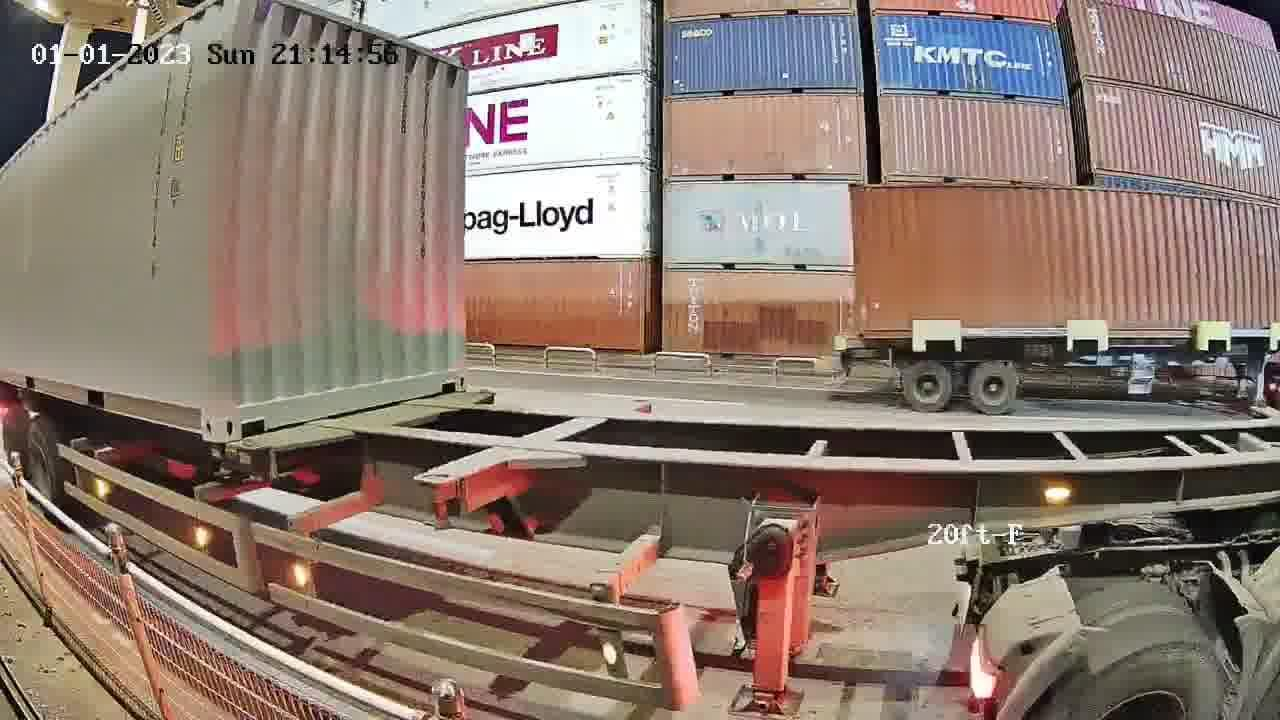Cone: (208, 448, 231, 479)
Hole_L: (222, 388, 279, 443)
Hole_R: (182, 394, 222, 446), (431, 353, 466, 393)
Tire: (1049, 647, 1223, 718)
